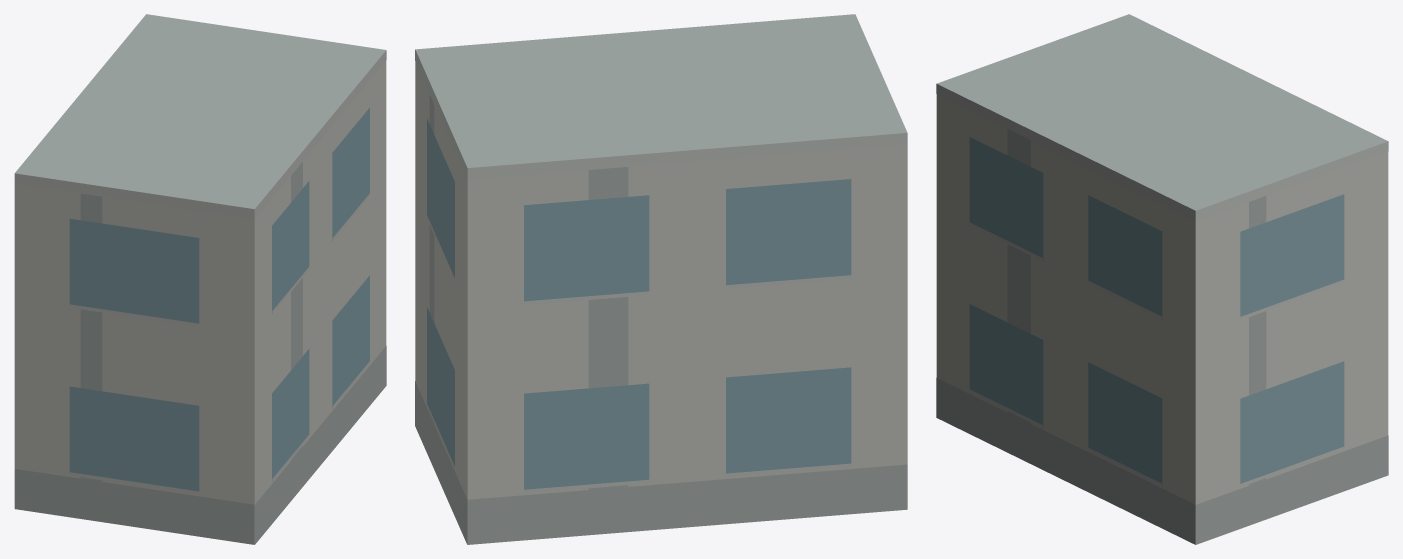
File: residential-71592d8c-847f-4f03-8ece-4af77815b026.glb
The picture shows the model from 3 angles, left to right: view 1: azimuth 30°, elevation 25°; view 2: azimuth 150°, elevation 25°; view 3: azimuth 270°, elevation 25°; orthographic projection. The views are drawn at different scales.
Parts seen in each view (by area): view 1: residential-71592d8c-847f-4f03-8ece-4af77815b026.tmp; view 2: residential-71592d8c-847f-4f03-8ece-4af77815b026.tmp; view 3: residential-71592d8c-847f-4f03-8ece-4af77815b026.tmp.
Part boxes in pixels (x1,y1,x2,y2): residential-71592d8c-847f-4f03-8ece-4af77815b026.tmp: [14, 14, 386, 544]; residential-71592d8c-847f-4f03-8ece-4af77815b026.tmp: [415, 14, 907, 544]; residential-71592d8c-847f-4f03-8ece-4af77815b026.tmp: [936, 14, 1388, 544].
Size of the model in its own units: 9.99 by 7.9 by 9.69.
